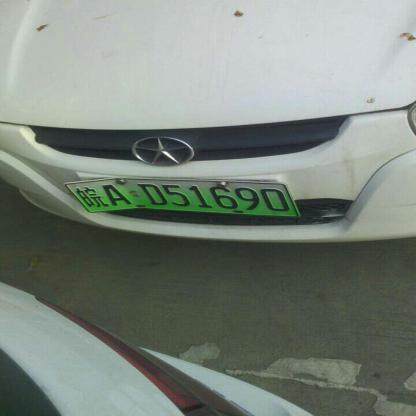lp: (67, 184, 296, 215)
